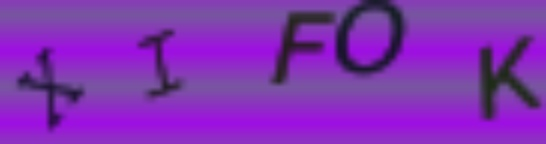F: (267, 10, 338, 88)
I: (135, 24, 185, 99)
K: (475, 32, 546, 127)
O: (335, 1, 413, 82)
X: (13, 40, 87, 134)
